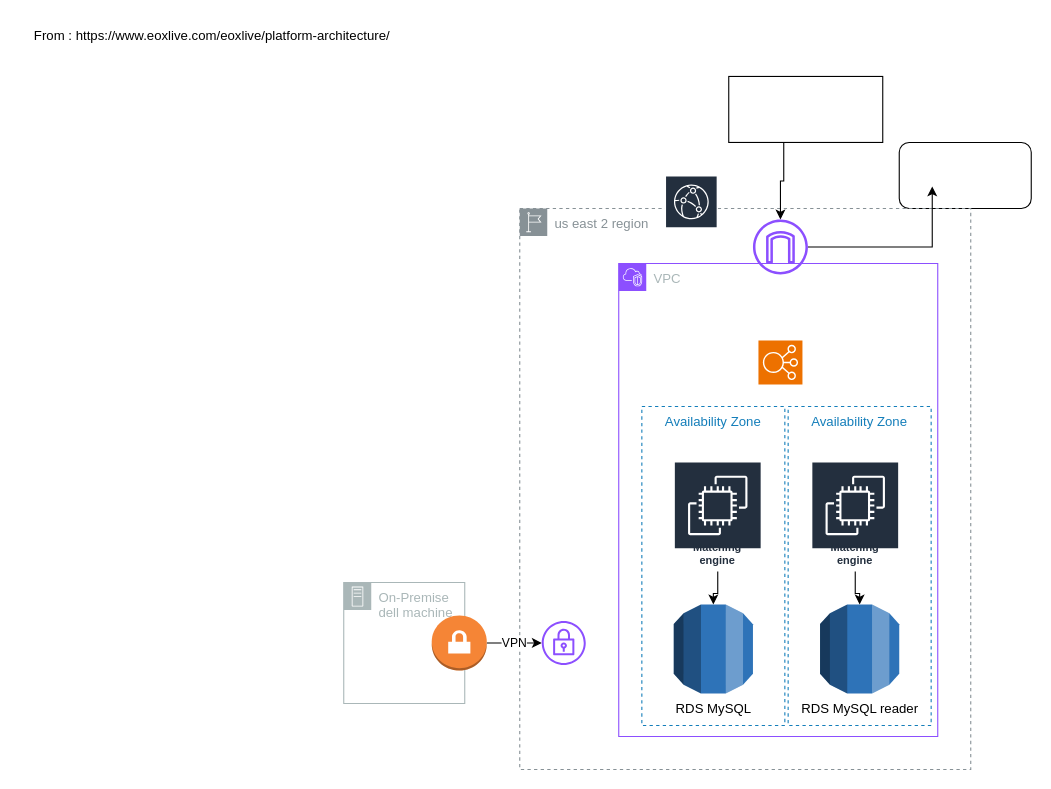
This 1051x789 diagram has some shape labels left out. The shapes that lost their labels are listed below. From the top down, each one's centre as x and y in pixels, then its label:
At (805,108): "Email, NASDAQ, CME, Clearpoint Market Data".
At (964,174): "Matching Results for trade".
At (691,207): "Amazon Cloudfront".
At (779,361): "ALB".
